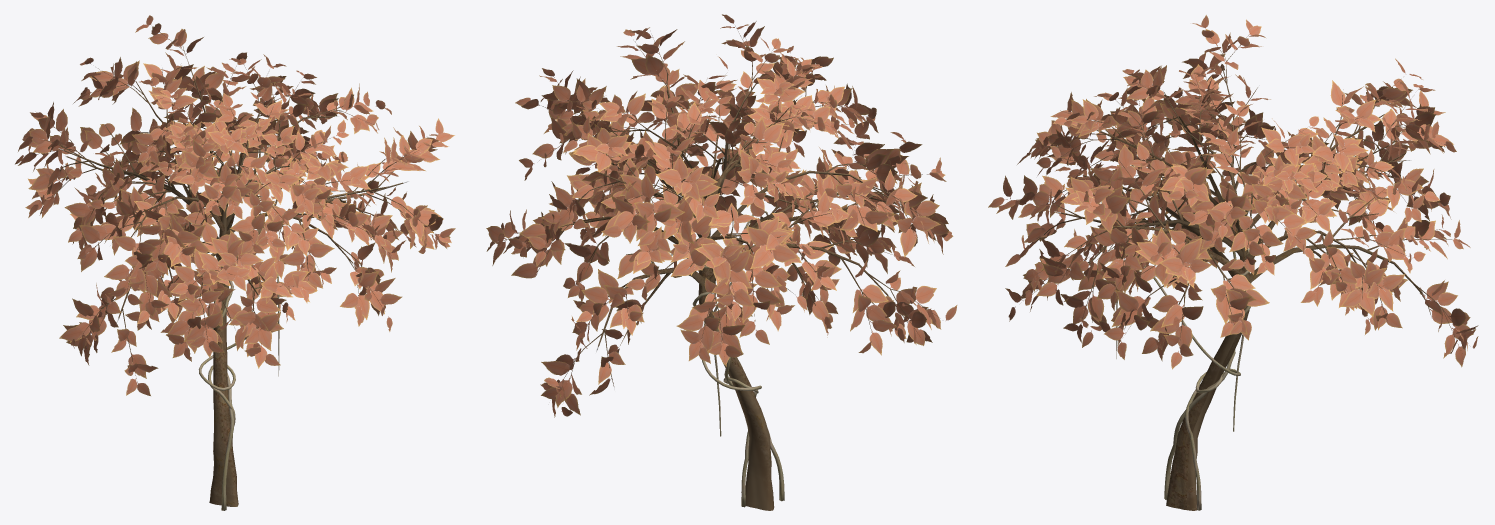
Rendered from tree.fbx.
The picture shows the model from 3 angles, left to right: view 1: azimuth 30°, elevation 25°; view 2: azimuth 150°, elevation 25°; view 3: azimuth 270°, elevation 25°; orthographic projection. The views are drawn at different scales.
Visible parts, largest first — view 1: tree; view 2: tree; view 3: tree.
Boxes of the visible parts, left/top/right/bottom form: tree: left=15, top=15, right=455, bottom=510; tree: left=486, top=14, right=957, bottom=510; tree: left=988, top=15, right=1478, bottom=510.
Size of the model in its own units: 22.02 by 22.8 by 22.14.
Materials: 4 (3 with a texture image).
